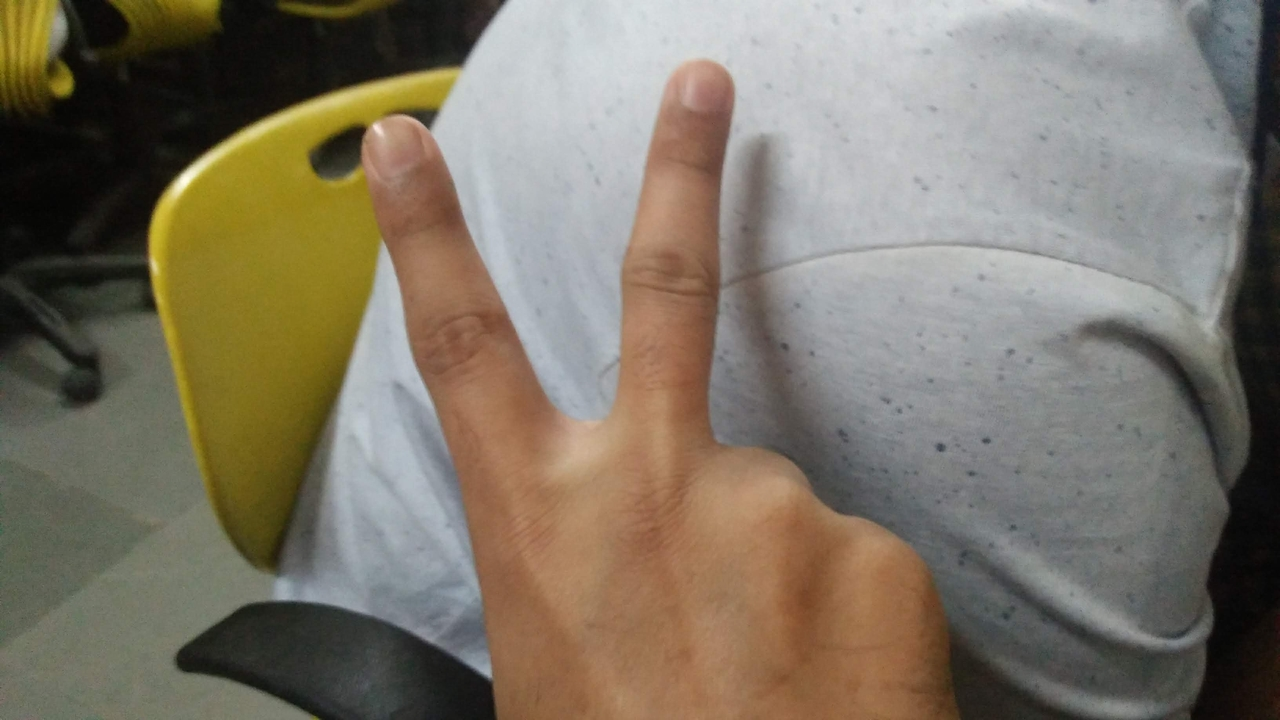fingertip: (340, 108, 432, 180), (662, 58, 738, 122)
